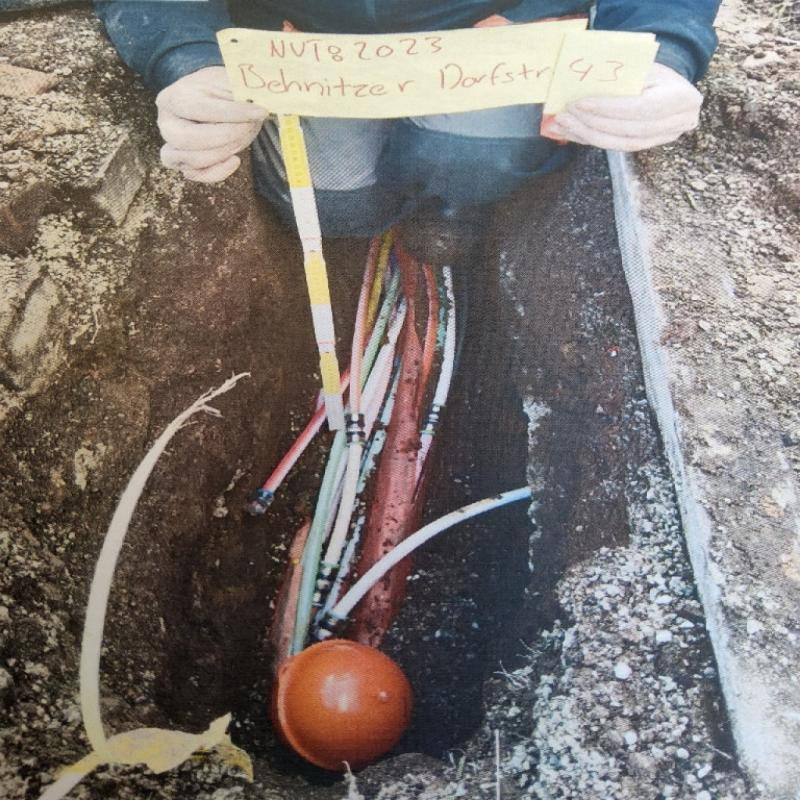Kugelmarker: (270, 637, 415, 770)
Orang-Speednetrohrchen: (343, 298, 465, 643)
